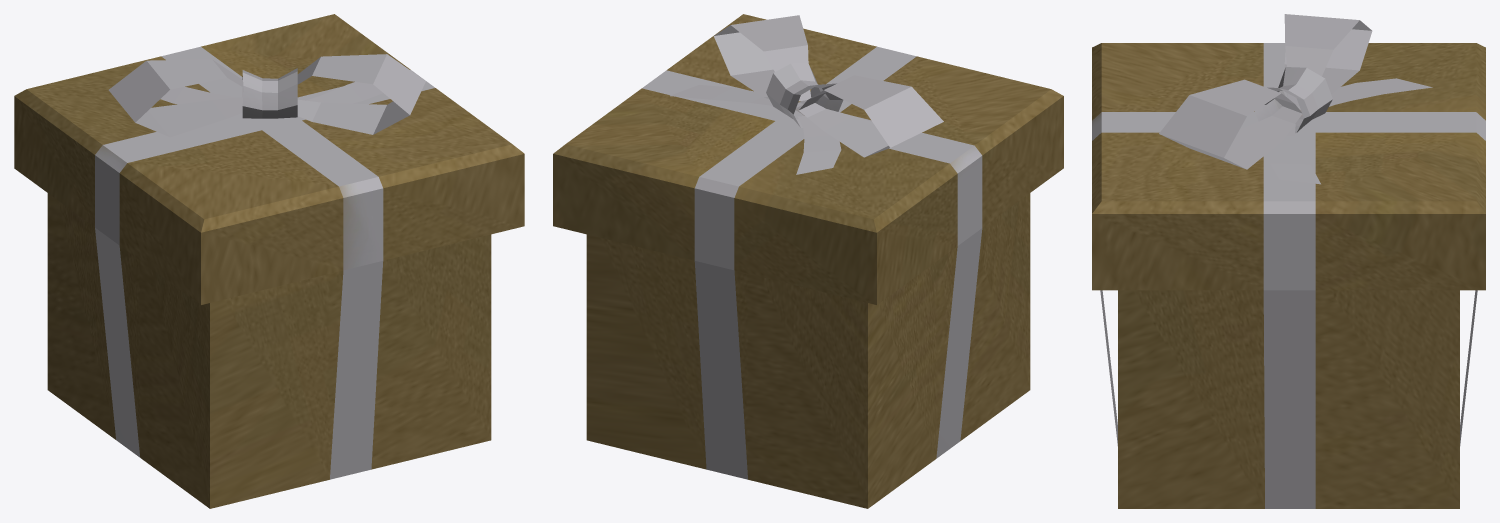
File: gift2022_yellow.glb
The picture shows the model from 3 angles, left to right: view 1: azimuth 30°, elevation 25°; view 2: azimuth 150°, elevation 25°; view 3: azimuth 270°, elevation 25°; orthographic projection. The views are drawn at different scales.
Parts seen in each view (by area): view 1: Gift; view 2: Gift; view 3: Gift.
Part boxes in pixels (x1,y1,x2,y2): Gift: [14, 14, 524, 508]; Gift: [553, 14, 1063, 508]; Gift: [1092, 14, 1485, 508].
Size of the model in its own units: 0.3718 by 0.3861 by 0.3718.
1 material, 1 textured.
